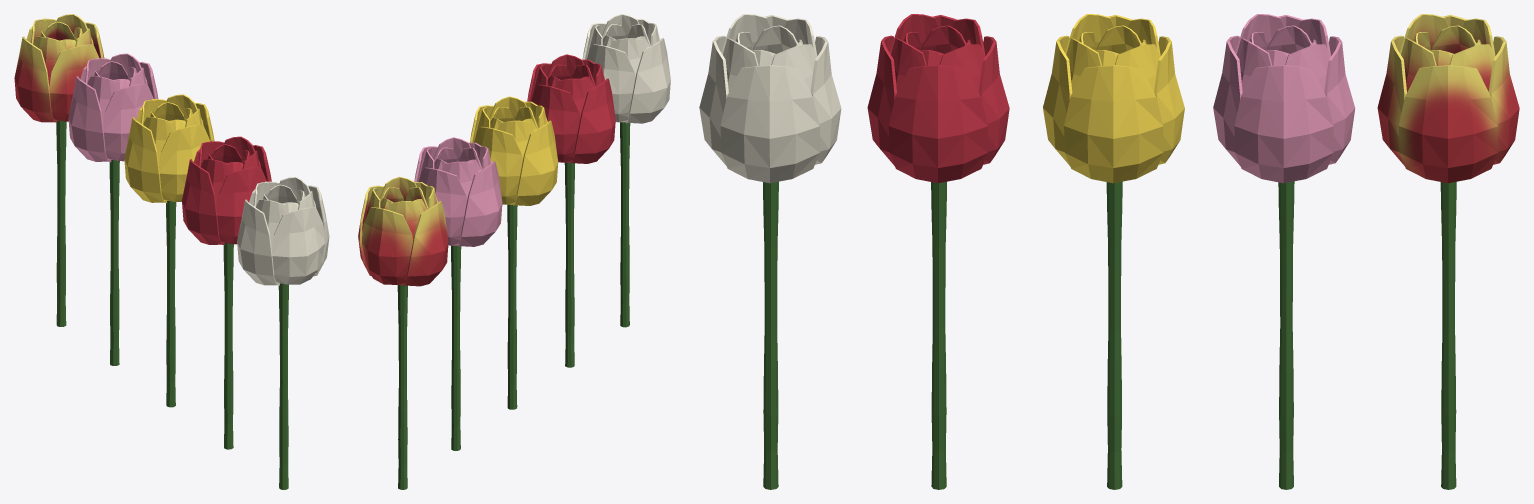
Rendered from 7260c918-5204-4a5a-9d00-18165c451afe.glb.
3 renders of one model, left to right at view 1: azimuth 30°, elevation 25°; view 2: azimuth 150°, elevation 25°; view 3: azimuth 270°, elevation 25°, orthographic. The views are drawn at different scales.
Visible parts, largest first — view 1: Node; view 2: Node; view 3: Node.
Part boxes in pixels (x1=…): Node: x1=14, y1=14, x2=329, y2=489; Node: x1=358, y1=14, x2=670, y2=489; Node: x1=699, y1=14, x2=1519, y2=489.
Size of the model in its own units: 1.31 by 4.41 by 7.18.
Materials: 7 (1 with a texture image).
